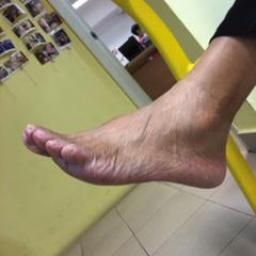Lateral View -Left Foot-: (12, 67, 248, 211)
